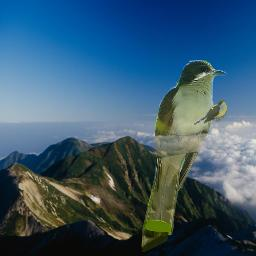Cuckoo: (141, 60, 227, 252), (191, 100, 227, 125)
